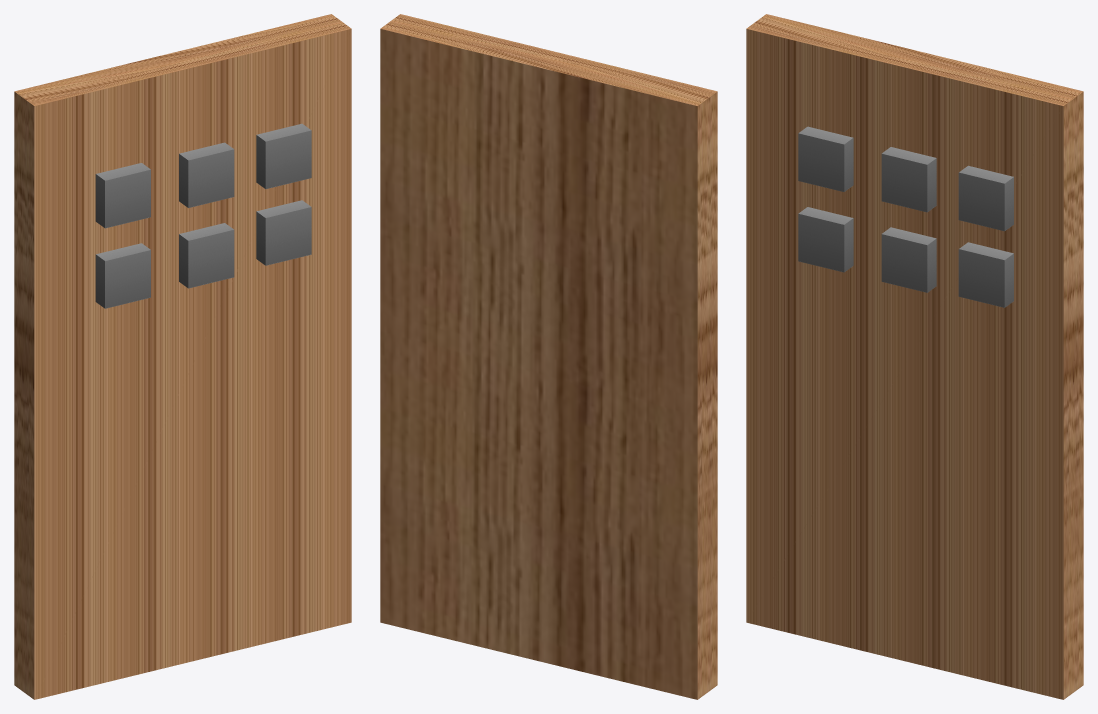
Rendered from Puerta.obj.
The picture shows the model from 3 angles, left to right: view 1: azimuth 30°, elevation 25°; view 2: azimuth 150°, elevation 25°; view 3: azimuth 330°, elevation 25°; orthographic projection.
Visible parts, largest first — view 1: polySurface8973; view 2: polySurface8973; view 3: polySurface8973.
Part boxes in pixels (bbox=[...]): polySurface8973: bbox=[14, 14, 351, 699]; polySurface8973: bbox=[380, 14, 717, 699]; polySurface8973: bbox=[746, 14, 1083, 699].
Size of the model in its own units: 1.74 by 3.11 by 0.2801.
2 materials, 2 textured.
